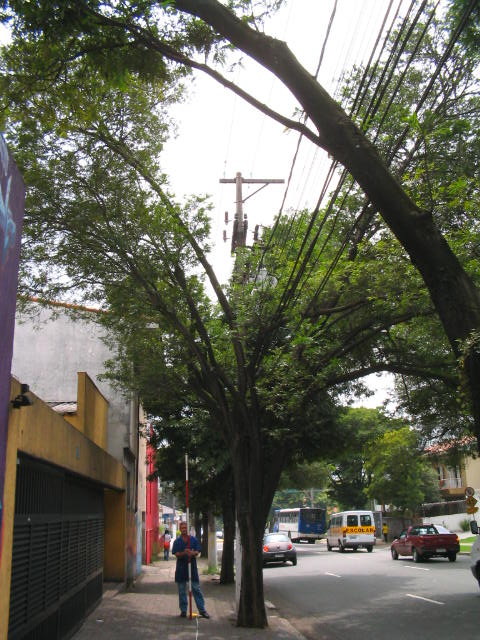crown: (6, 21, 476, 415)
stem: (231, 506, 277, 629), (215, 511, 238, 584)
stick: (178, 453, 196, 620)
tree: (1, 19, 477, 629)
